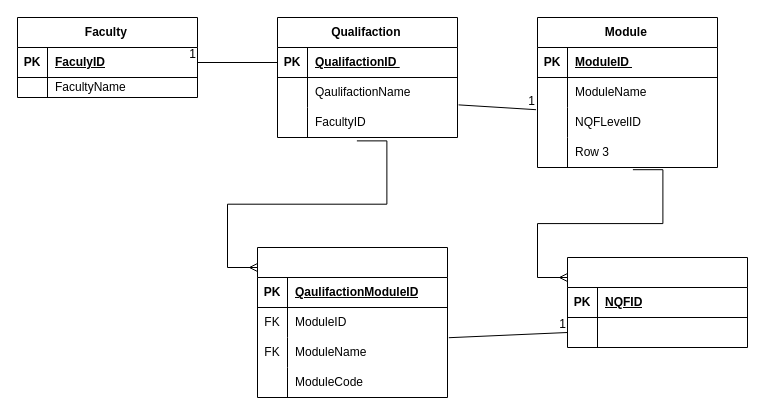
This 765x415 diagram has some shape labels left out. Each missing label, with the box of its shape:
NQFLevel: (566, 256, 748, 348)
QualifactionModule: (256, 246, 448, 398)
